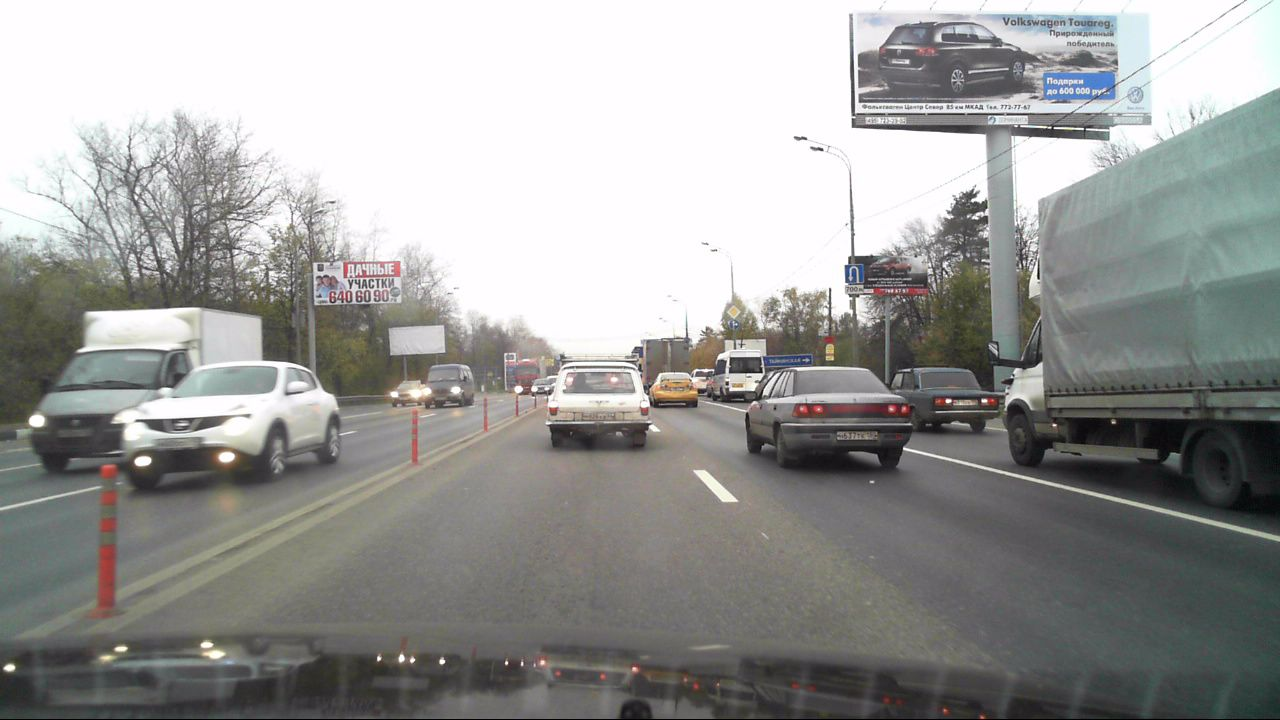U-turn: (845, 265, 863, 283)
